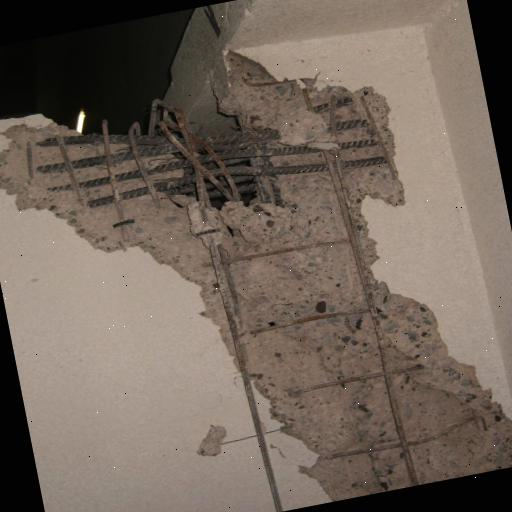spalling: (0, 50, 512, 502)
